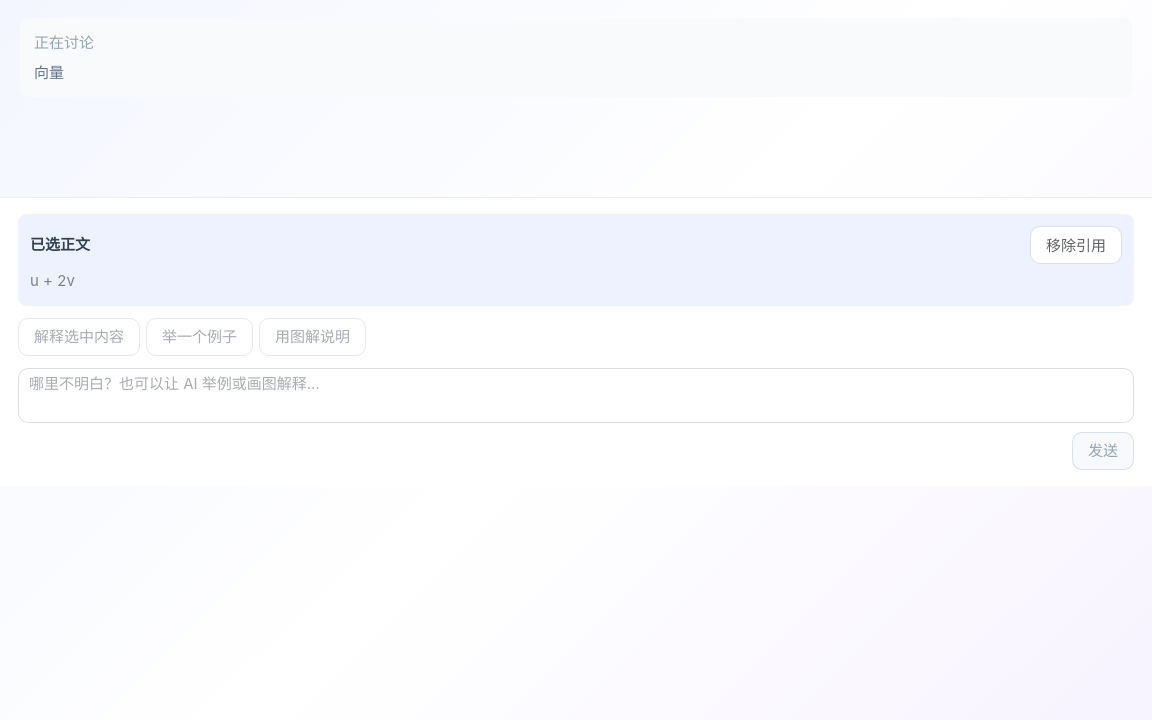
personal handout assistant › restores history before accepting a question, keeping text typed while waiting
Type "先写下这个问题" into the text box with placeholder "哪里不明白？也可以让 AI 举例或画图解释…" at (576, 395), box x1=18 y1=368 x2=1134 y2=422
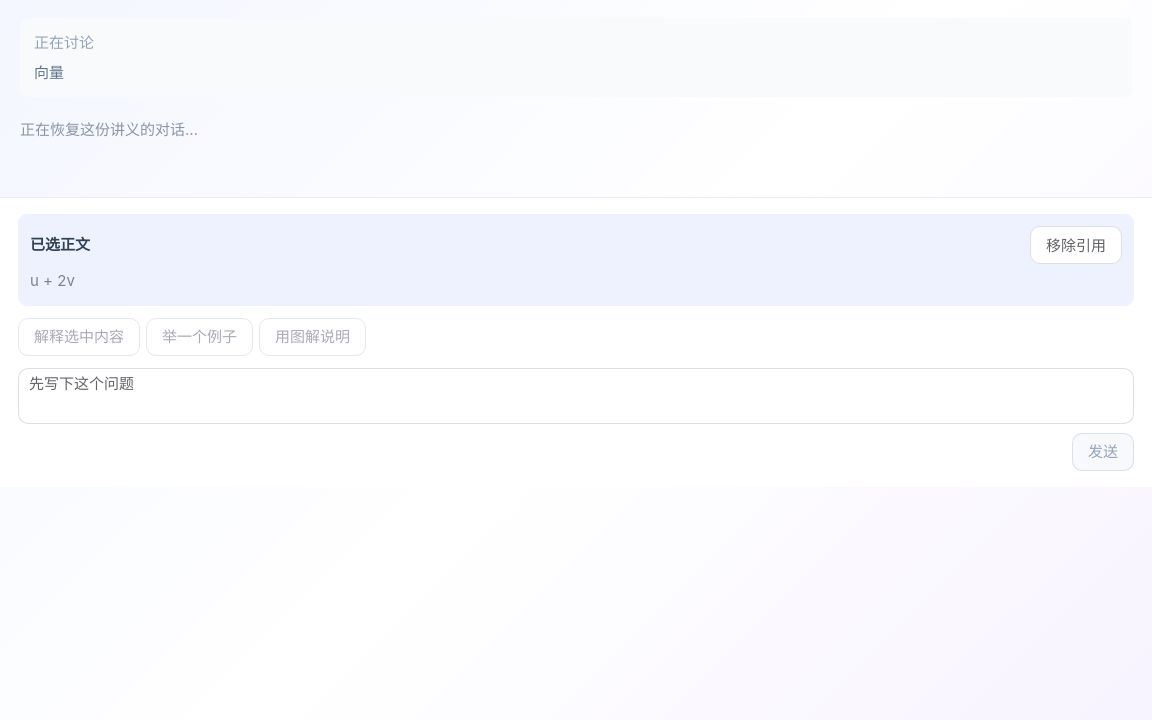
Expected: the button "发送" is disabled, x1=1072 y1=432 x2=1134 y2=470
Result: the text "正在恢复这份讲义的对话" is shown at x1=20 y1=120 x2=198 y2=139
Submit the form, box x1=0 y1=197 x2=1151 y2=486
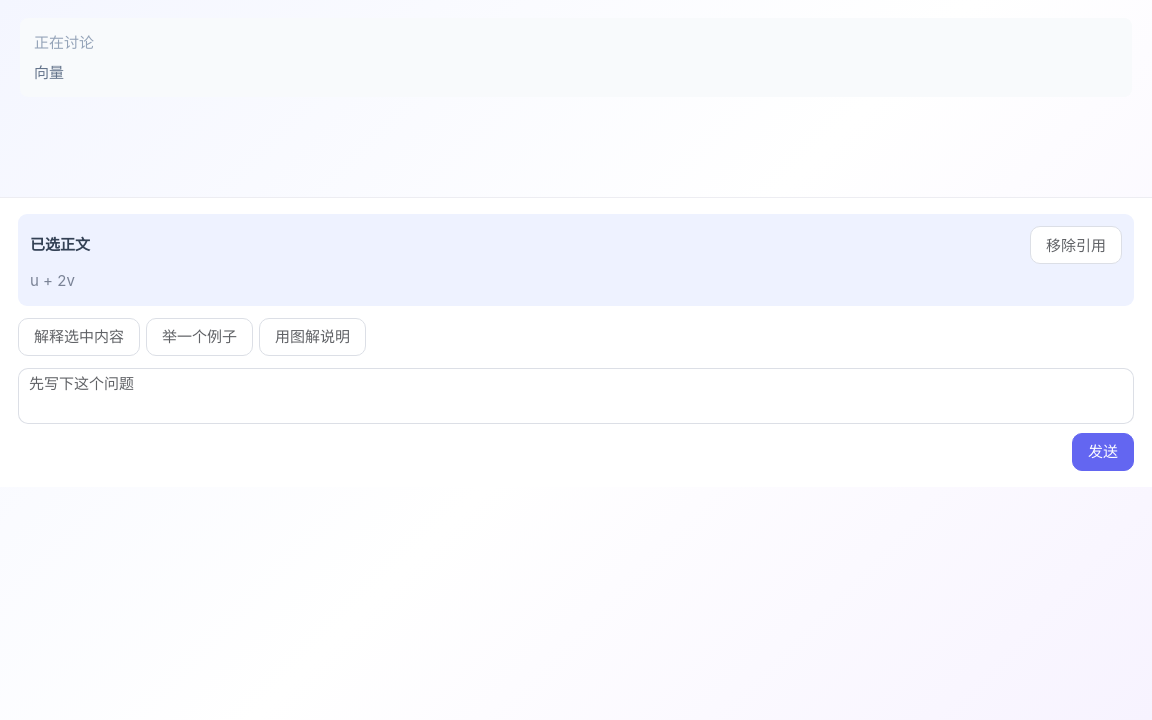
Result: the button "发送" is enabled at x1=1072 y1=432 x2=1134 y2=470
